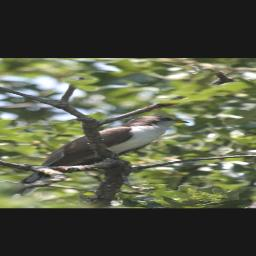Cuckoo: (0, 115, 192, 197)
